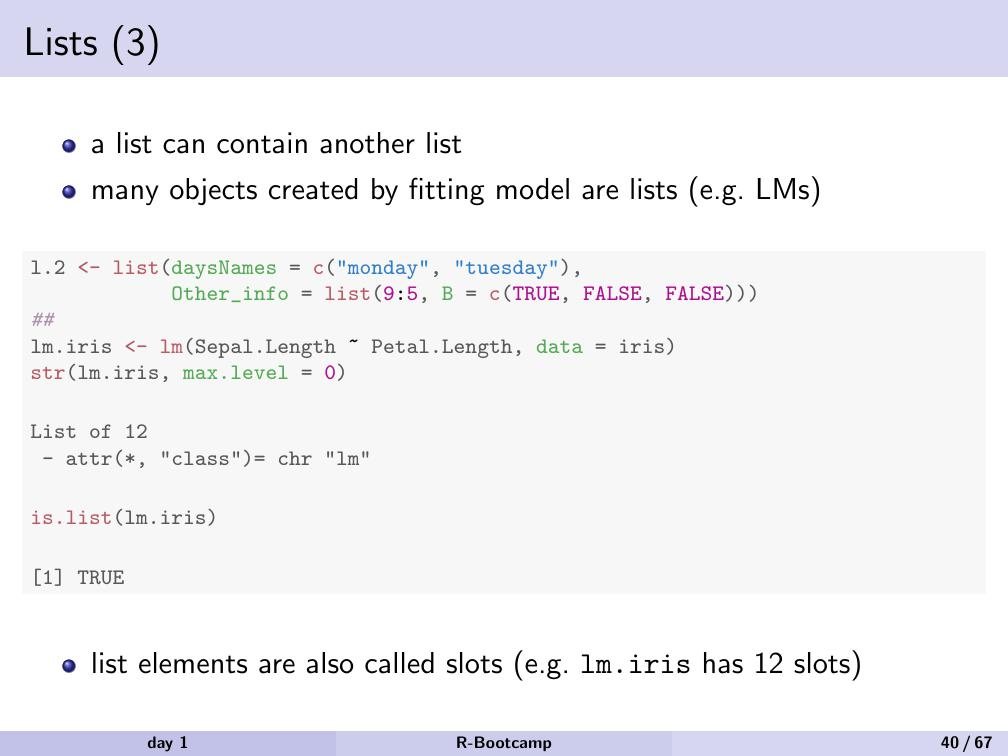Title: (16, 13, 165, 70)
